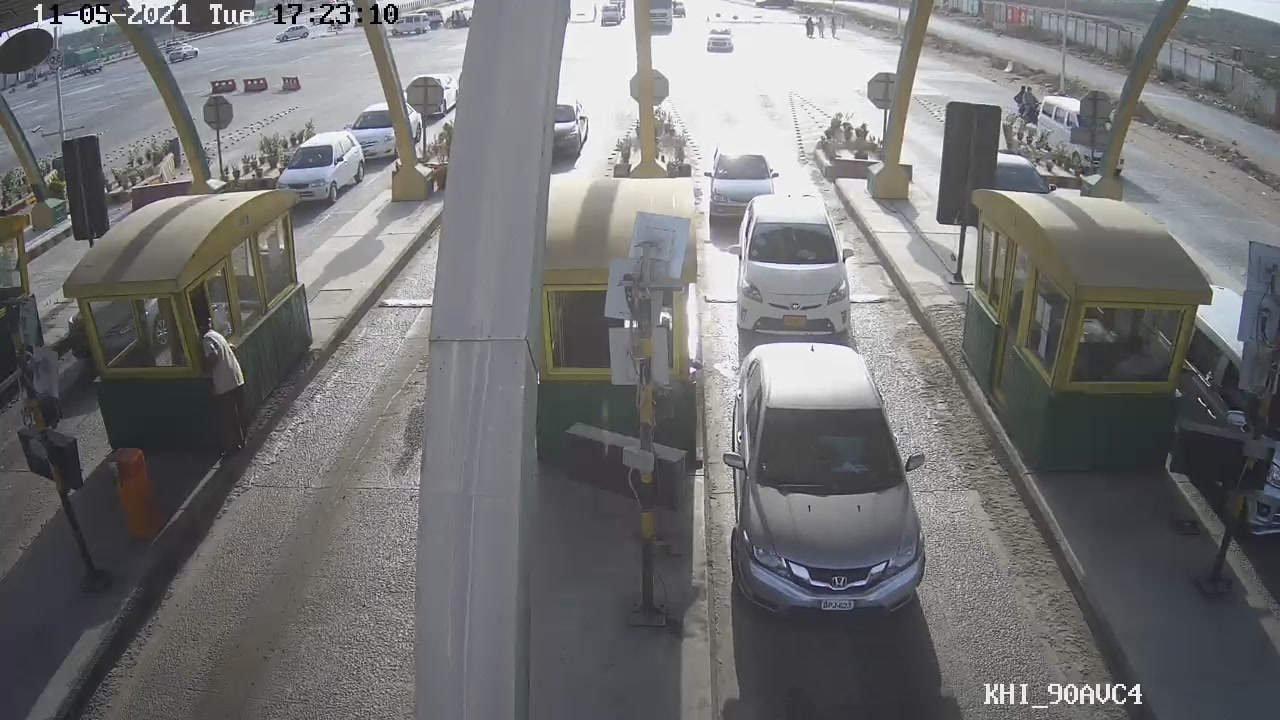F1: (711, 342, 931, 623), (726, 193, 871, 338)
